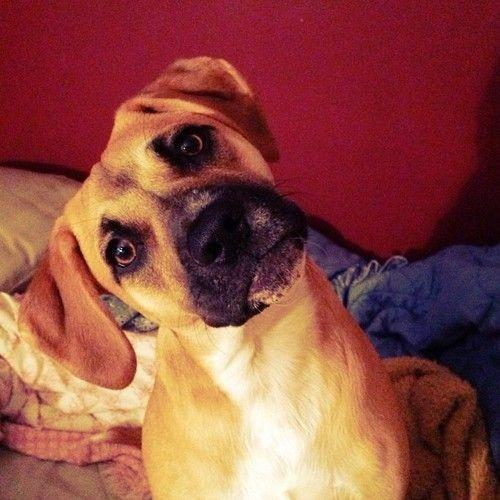adult_dog: (0, 52, 420, 500)
